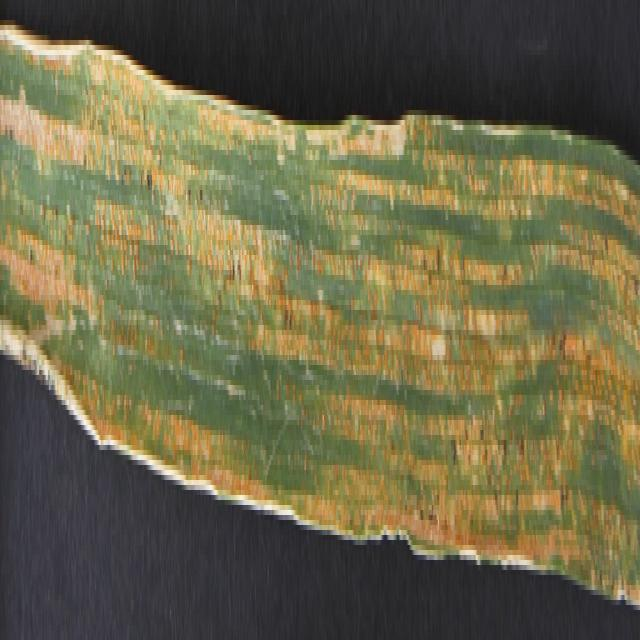leaf rust: (1, 30, 640, 625)
